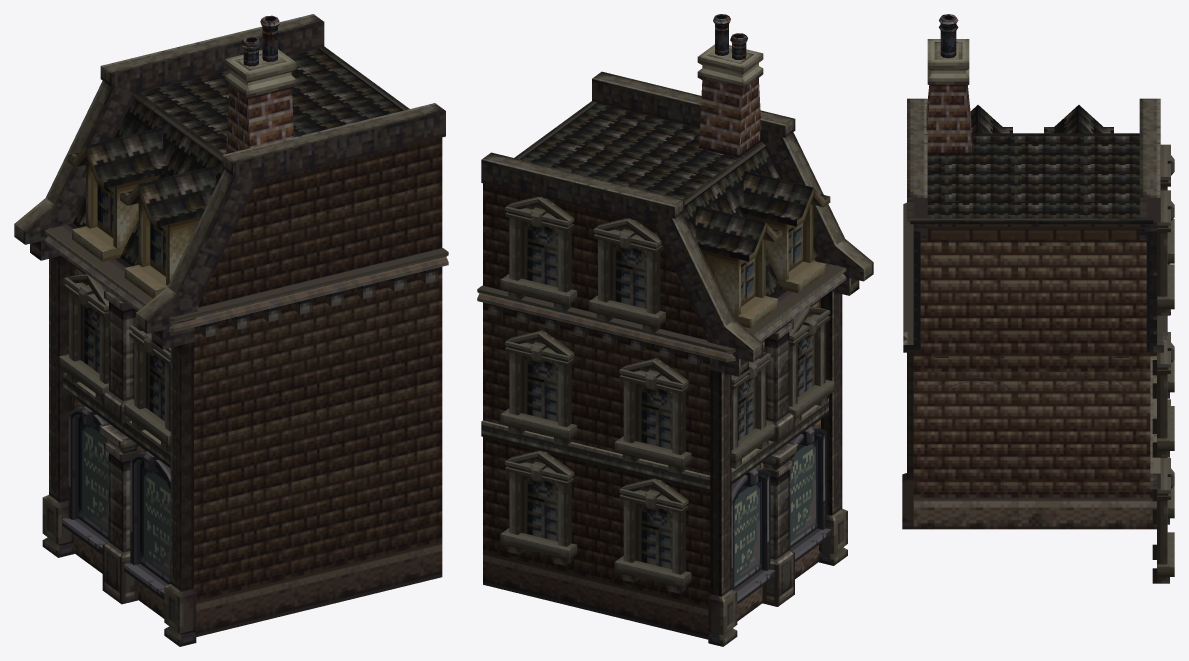
File: EnvBdgMD_City_B_Outdoor_L_E_Redwall_A.FBX
The picture shows the model from 3 angles, left to right: view 1: azimuth 30°, elevation 25°; view 2: azimuth 150°, elevation 25°; view 3: azimuth 270°, elevation 25°; orthographic projection. The views are drawn at different scales.
Visible parts, largest first — view 1: EnvBdgMD_City_B_Outdoor_L_E_Redwall_A; view 2: EnvBdgMD_City_B_Outdoor_L_E_Redwall_A; view 3: EnvBdgMD_City_B_Outdoor_L_E_Redwall_A.
Boxes of the visible parts, x1,y1,x2,y2 form: EnvBdgMD_City_B_Outdoor_L_E_Redwall_A: (14, 14, 448, 646); EnvBdgMD_City_B_Outdoor_L_E_Redwall_A: (477, 14, 873, 646); EnvBdgMD_City_B_Outdoor_L_E_Redwall_A: (902, 14, 1174, 583).
Size of the model in its own units: 477 by 885 by 391.
1 material, 1 textured.
